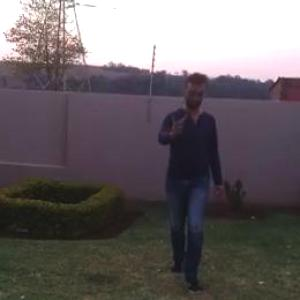takeoff-hand: (159, 102, 193, 140)
